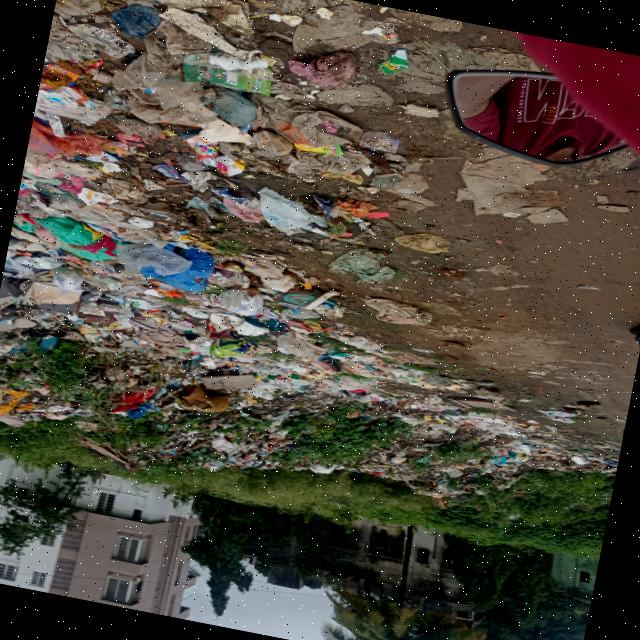garbage: (1, 0, 450, 357), (0, 285, 542, 519)
